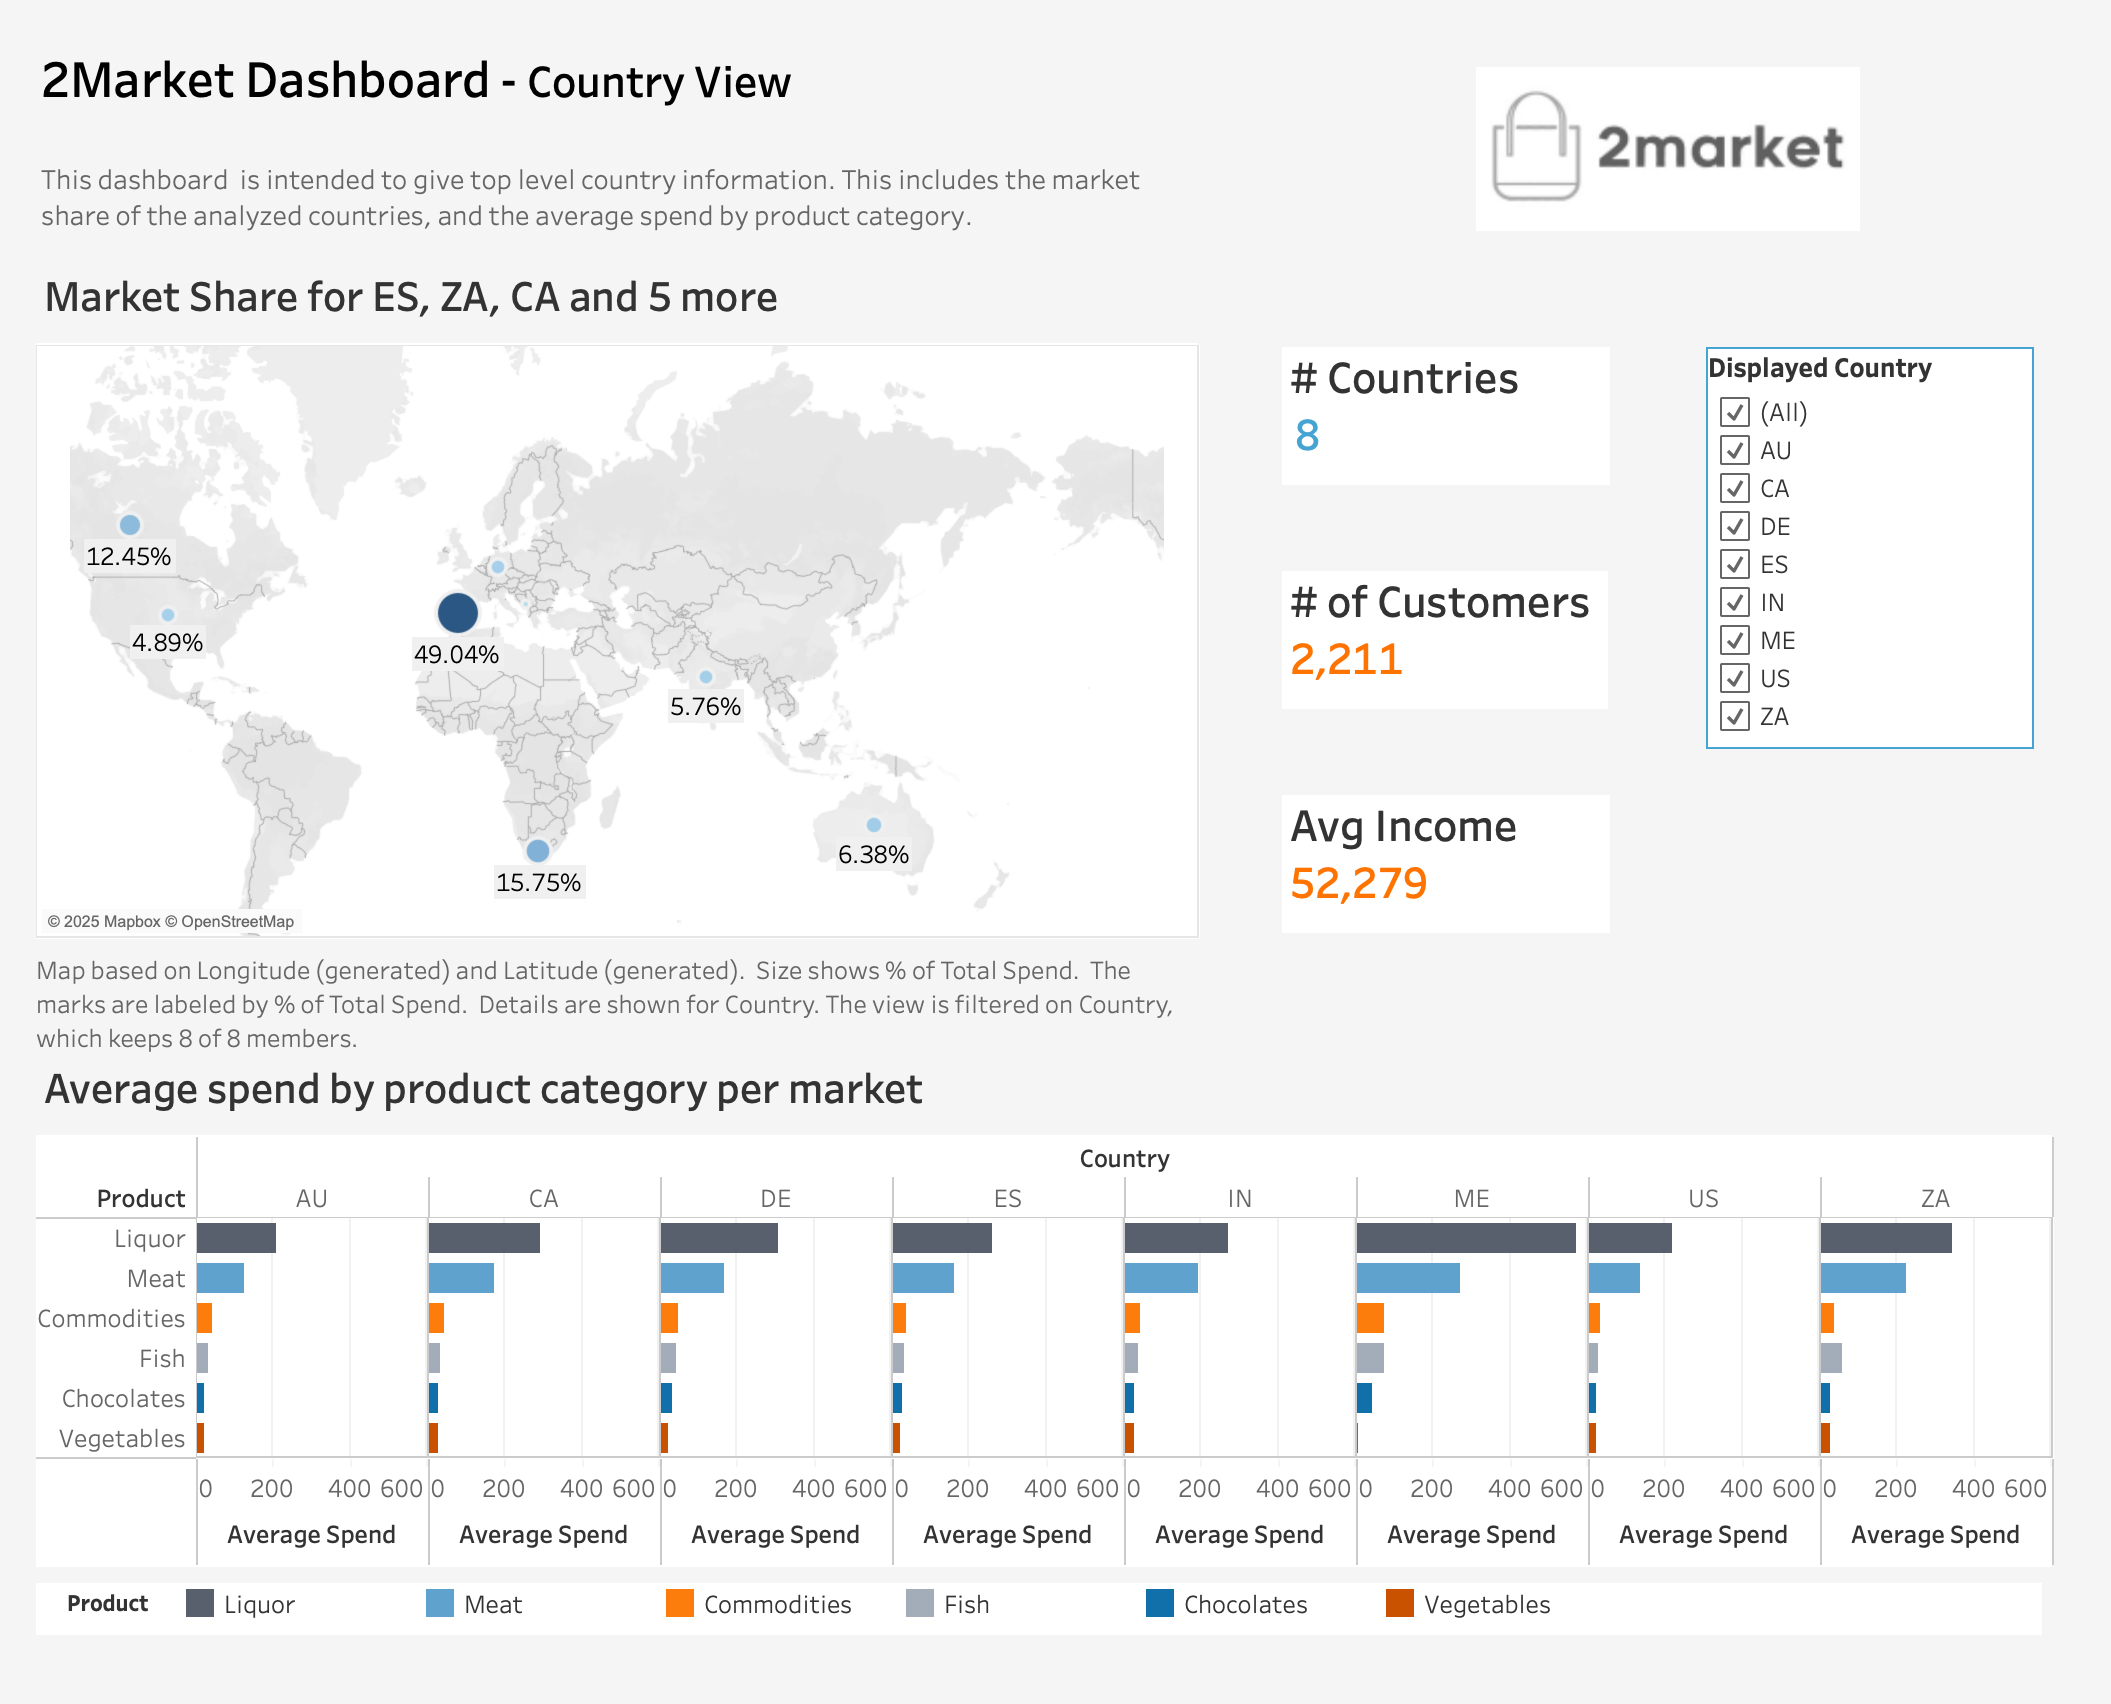

What the dashboard file says about the page in this screenshot:
{"tool":"tableau","page":{"name":"Country View","canvas":[1024,768],"ordinal":1},"visuals":[{"type":"text","box":[0,0,410,44]},{"type":"image","param":"Image/2Market.jpg","box":[720,17,192,91]},{"type":"text","box":[0,48,572,68]},{"type":"worksheet","title":"Market Share vs Country","mark":"Automatic","box":[0,113,582,399]},{"type":"worksheet","title":"Nb of Countries","mark":"Automatic","box":[623,157,164,69]},{"type":"filter","title":"Market Share vs Country","param":"[federated.0b671u406pt3rf18pvn5i0hm06i7].[none:Country:nk]","box":[835,157,164,201]},{"type":"worksheet","title":"Nb of Customers per market","mark":"Automatic","box":[623,269,163,69]},{"type":"worksheet","title":"Avg Income","mark":"Automatic","box":[623,381,164,69]},{"type":"worksheet","title":"Country and product category","mark":"Bar","rows":["product"],"cols":["country","average_spend"],"box":[0,509,1009,259]}]}

Visuals, with their boxes on the page's 1024x768 design canvas (x1, y1, x2, y2). These are canvas units, not pixel positions in the 2111x1704 screenshot, which may show the page scaled, cropped or inside an application window:
text: <bbox>0, 0, 410, 44</bbox>
image: <bbox>720, 17, 912, 108</bbox>
text: <bbox>0, 48, 572, 116</bbox>
"Market Share vs Country" worksheet: <bbox>0, 113, 582, 512</bbox>
"Nb of Countries" worksheet: <bbox>623, 157, 787, 226</bbox>
"Market Share vs Country" filter: <bbox>835, 157, 999, 358</bbox>
"Nb of Customers per market" worksheet: <bbox>623, 269, 786, 338</bbox>
"Avg Income" worksheet: <bbox>623, 381, 787, 450</bbox>
"Country and product category" worksheet (Bar marks): <bbox>0, 509, 1009, 768</bbox>
